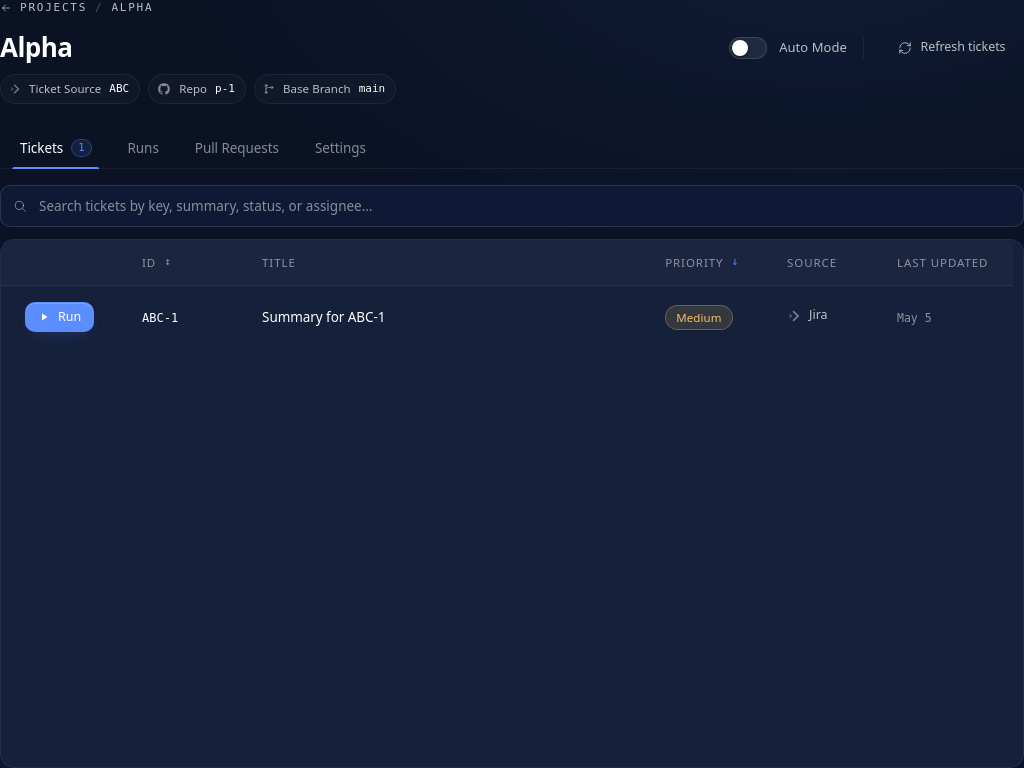
Test case: <ProjectDetail /> — DET › DET-010 tab switching › DET-010: switching to Runs / PRs / Settings shows empty-state; back to Tickets restores table
Expected: the row with test id "ticket-row-ABC-1" is shown, [1,286,1013,348]
Expected: the tab "Pull Requests" is shown, [179,128,295,168]
# Switch to Runs → table hidden, empty-state visible.
Click the tab "Runs" at (143, 148), box [112,128,175,168]
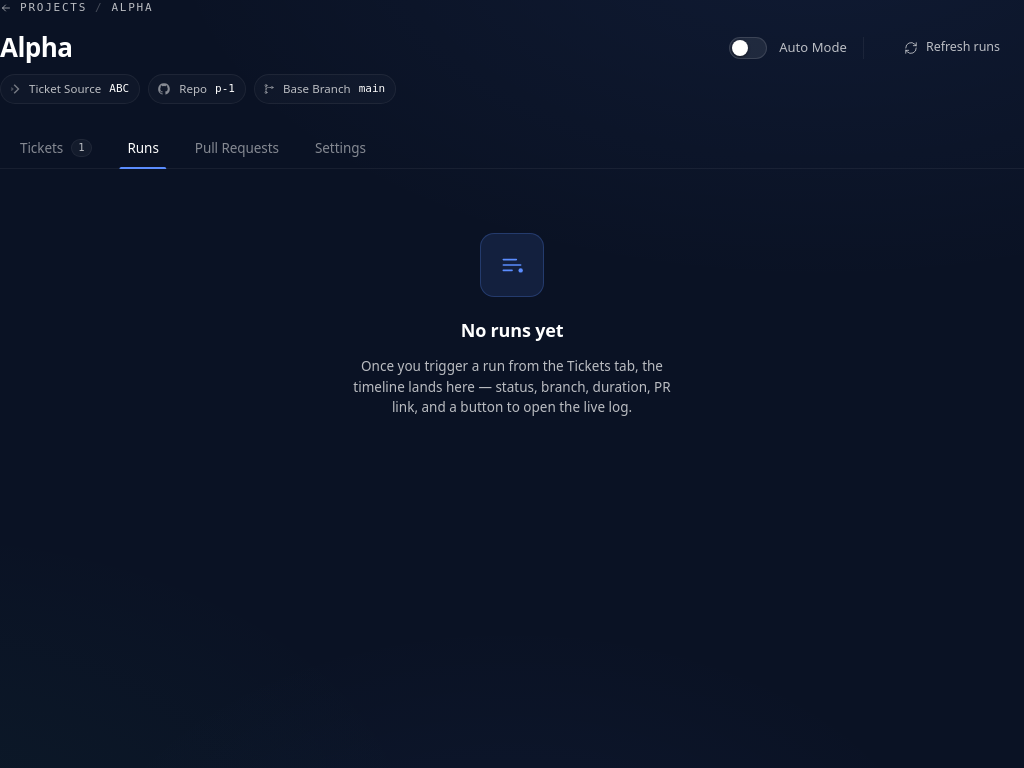
Expected: the row with test id "ticket-row-ABC-1" is gone
# Switch to PRs → still no table.
Click the tab "Pull Requests" at (237, 148), box [179,128,295,168]
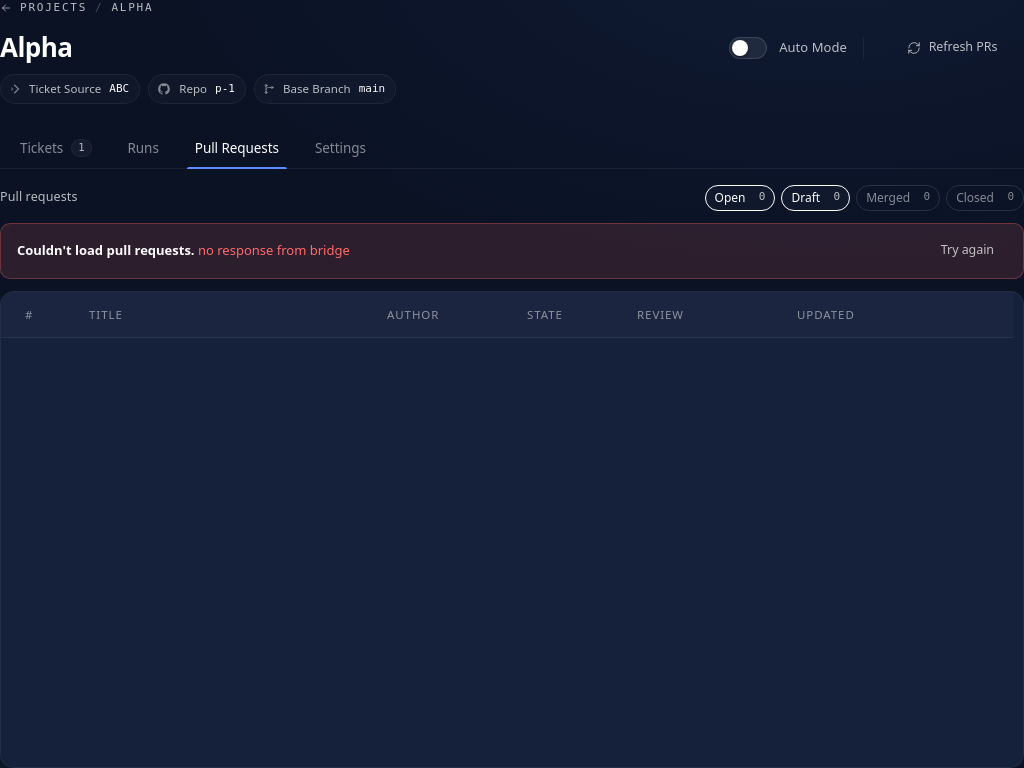
# Switch to Settings → still no table.
Click the tab "Settings" at (340, 148), box [299,128,382,168]
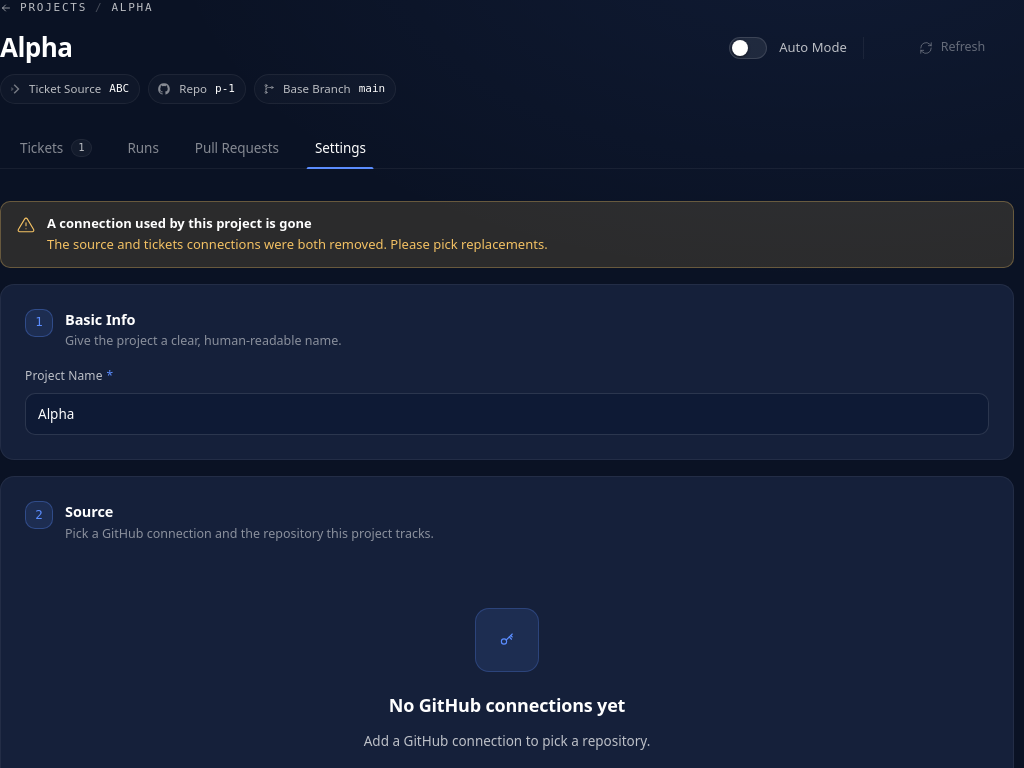
# Back to Tickets → table is back.
Click the tab "Tickets 1" at (56, 148), box [4,128,108,168]
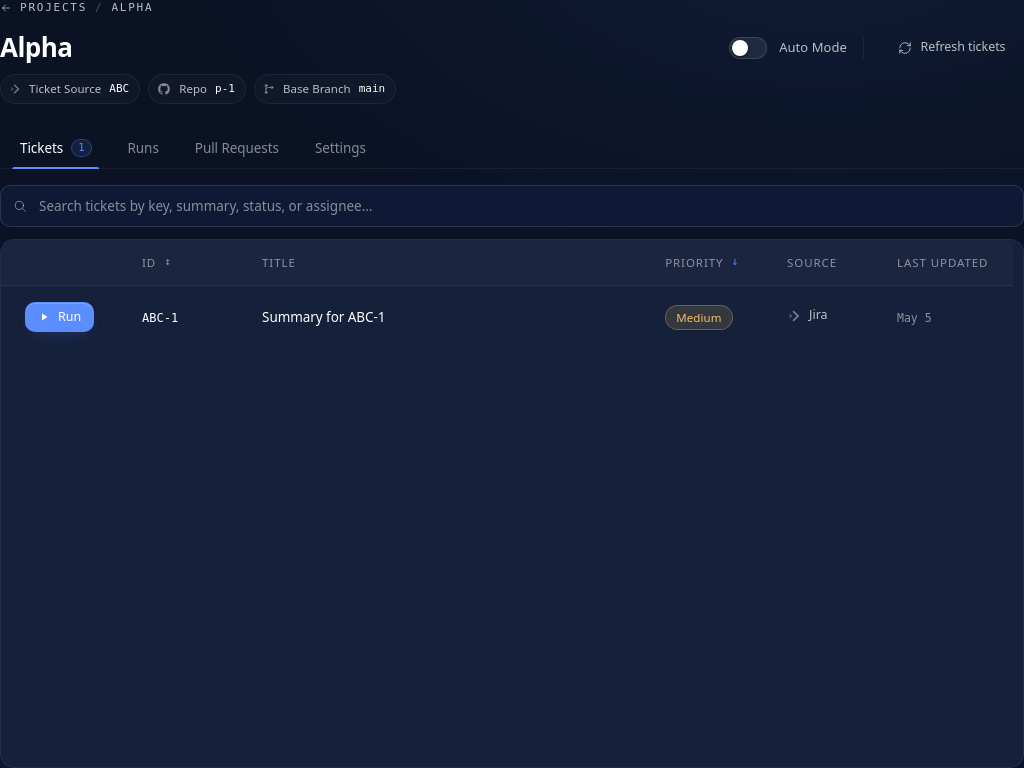
Expected: the row with test id "ticket-row-ABC-1" is shown, [1,286,1013,348]
